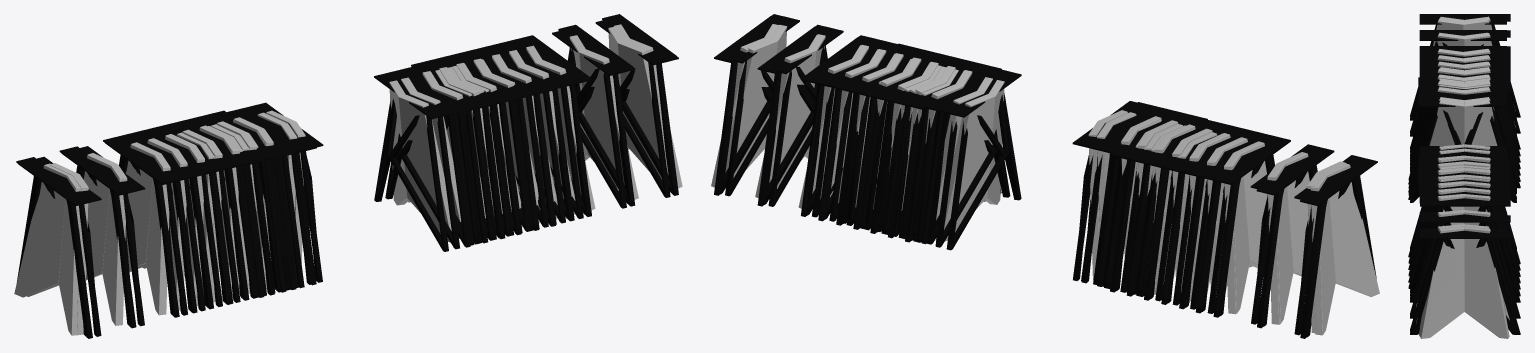
File: Butterfly.glb
The picture shows the model from 3 angles, left to right: view 1: azimuth 30°, elevation 25°; view 2: azimuth 150°, elevation 25°; view 3: azimuth 270°, elevation 25°; orthographic projection. The views are drawn at different scales.
Visible parts, largest first — view 1: Verbaan_Butterfly_Wood_LEG, Verbaan_Butterfly_LEG, Oval_Butterfly_LEG, Halve_Butterfly_LEG, Organic_Butterfly_LEG, Oval_Butterfly_Wood_LEG, Rectangle_Butterfly_Wood_LEG_90_100_110_400, Rectangle_Butterfly_LEG_90_100_110_400, Boat_Butterfly_LEG, Halve_Butterfly_Wood_LEG, Rectangle_Butterfly_LEG_90_100_110_350, Rectangle_Butterfly_LEG_90_100_110_300 (+6 smaller); view 2: Verbaan_Butterfly_LEG, Verbaan_Butterfly_Wood_LEG, Oval_Butterfly_LEG, Boat_Butterfly_LEG, Oval_Butterfly_Wood_LEG, Halve_Butterfly_LEG, Rectangle_Butterfly_Wood_LEG_90_100_110_400, Organic_Butterfly_LEG, Rectangle_Butterfly_LEG_90_100_110_400, Rectangle_Butterfly_LEG_90_100_110_300, Boat_Butterfly_Wood_LEG, Rectangle_Butterfly_LEG_90_100_110_350 (+15 smaller); view 3: Rectangle_Butterfly_Wood_LEG_90_100_110_400, Boat_Butterfly_LEG, Halve_Butterfly_Wood_LEG, Oval_Butterfly_Wood_LEG, Halve_Butterfly_LEG, Verbaan_Butterfly_LEG, Oval_Butterfly_LEG, Verbaan_Butterfly_Wood_LEG, Organic_Butterfly_LEG, Rectangle_Butterfly_LEG_90_100_110_400, Boat_Butterfly_Wood_LEG, Rectangle_Butterfly_LEG_90_100_110_350 (+15 smaller).
Boxes of the visible parts, box(x1,y1,x2,y2) form: Verbaan_Butterfly_Wood_LEG: box(27, 26, 668, 335); Verbaan_Butterfly_LEG: box(37, 20, 670, 336); Oval_Butterfly_LEG: box(214, 66, 533, 304); Halve_Butterfly_LEG: box(18, 22, 678, 338); Organic_Butterfly_LEG: box(228, 67, 555, 297); Oval_Butterfly_Wood_LEG: box(176, 59, 538, 297); Rectangle_Butterfly_Wood_LEG_90_100_110_400: box(14, 24, 682, 335); Rectangle_Butterfly_LEG_90_100_110_400: box(16, 14, 676, 336); Boat_Butterfly_LEG: box(59, 29, 627, 325); Halve_Butterfly_Wood_LEG: box(15, 50, 680, 334); Rectangle_Butterfly_LEG_90_100_110_350: box(60, 24, 632, 323); Rectangle_Butterfly_LEG_90_100_110_300: box(103, 35, 589, 314); Verbaan_Butterfly_LEG: box(725, 16, 1368, 335); Verbaan_Butterfly_Wood_LEG: box(725, 24, 1346, 333); Oval_Butterfly_LEG: box(860, 50, 1235, 295); Boat_Butterfly_LEG: box(758, 68, 1330, 327); Oval_Butterfly_Wood_LEG: box(855, 59, 1217, 302); Halve_Butterfly_LEG: box(720, 14, 1377, 337); Rectangle_Butterfly_Wood_LEG_90_100_110_400: box(711, 24, 1379, 335); Organic_Butterfly_LEG: box(844, 43, 1207, 294); Rectangle_Butterfly_LEG_90_100_110_400: box(714, 15, 1374, 338); Rectangle_Butterfly_LEG_90_100_110_300: box(800, 37, 1287, 317); Boat_Butterfly_Wood_LEG: box(755, 60, 1301, 324); Rectangle_Butterfly_LEG_90_100_110_350: box(757, 26, 1330, 328); Rectangle_Butterfly_Wood_LEG_90_100_110_400: box(1420, 16, 1509, 338); Boat_Butterfly_LEG: box(1414, 30, 1520, 318); Halve_Butterfly_Wood_LEG: box(1421, 20, 1507, 338); Oval_Butterfly_Wood_LEG: box(1429, 67, 1497, 182); Halve_Butterfly_LEG: box(1410, 14, 1516, 334); Verbaan_Butterfly_LEG: box(1410, 17, 1516, 331); Oval_Butterfly_LEG: box(1410, 66, 1516, 249); Verbaan_Butterfly_Wood_LEG: box(1418, 18, 1490, 335); Organic_Butterfly_LEG: box(1408, 77, 1512, 288); Rectangle_Butterfly_LEG_90_100_110_400: box(1413, 14, 1520, 334); Boat_Butterfly_Wood_LEG: box(1437, 33, 1508, 317); Rectangle_Butterfly_LEG_90_100_110_350: box(1414, 30, 1520, 318).
Bounding box in the file's own units: 3.52 × 0.7387 × 0.7354.
Materials: 11 (11 with a texture image).
